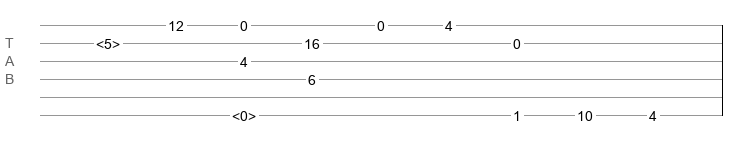0: (240, 18, 248, 28), (377, 18, 385, 28), (513, 36, 521, 46)
1: (513, 108, 521, 118)
10: (577, 108, 593, 118)
12: (168, 18, 184, 28)
16: (304, 36, 320, 46)
4: (240, 54, 248, 64), (445, 18, 453, 28), (649, 108, 657, 118)
6: (308, 72, 316, 82)
harmonic: (96, 36, 120, 46), (232, 108, 256, 118)
